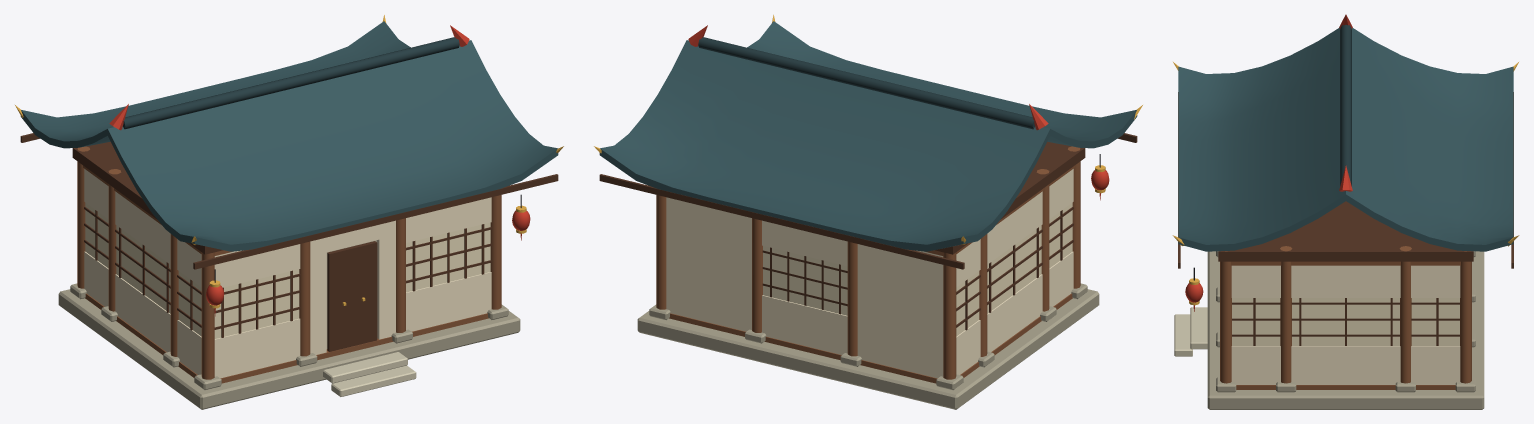
Rendered from house_small.glb.
The picture shows the model from 3 angles, left to right: view 1: azimuth 30°, elevation 25°; view 2: azimuth 150°, elevation 25°; view 3: azimuth 270°, elevation 25°; orthographic projection. The views are drawn at different scales.
Visible parts, largest first — view 1: HouseSmall; view 2: HouseSmall; view 3: HouseSmall.
Part boxes in pixels (box(x1,y1,x2,y2)): HouseSmall: box(15, 15, 563, 409); HouseSmall: box(594, 15, 1142, 409); HouseSmall: box(1172, 14, 1519, 409).
Size of what is drawn, in the model's own units: 7.73 by 5.18 by 6.52.
